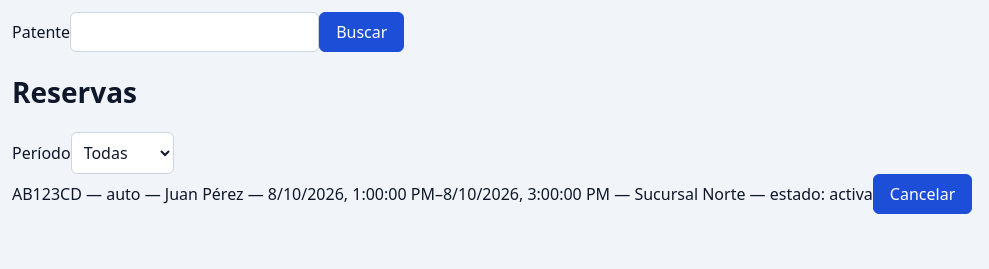
Scenario: ReservasListado › cancelar con el legajo correcto muestra éxito y refleja estado=cancelada tras refrescar
Click the button "Cancelar" at {"x": 922, "y": 194}, box top-left (873, 174), bottom-right (972, 214)
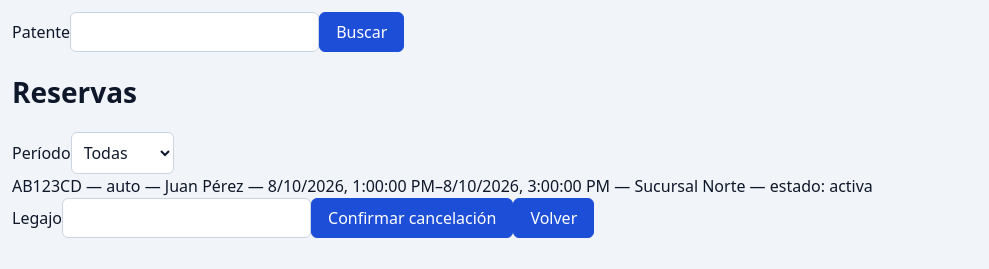
Type "1234" into the field labelled "Legajo" at {"x": 186, "y": 218}, box top-left (62, 198), bottom-right (311, 238)
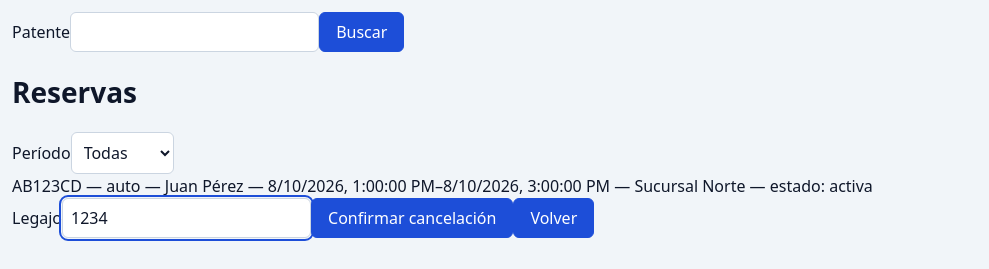
Click the button "Confirmar cancelación" at {"x": 412, "y": 218}, box top-left (311, 198), bottom-right (513, 238)
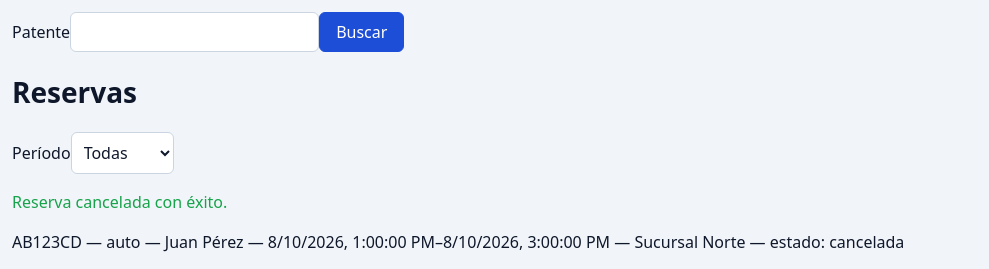
expect the message "Reserva cancelada con éxito." is shown: met, box top-left (12, 190), bottom-right (227, 212)
expect the text "cancelada" is shown: met, box top-left (829, 230), bottom-right (904, 252)
